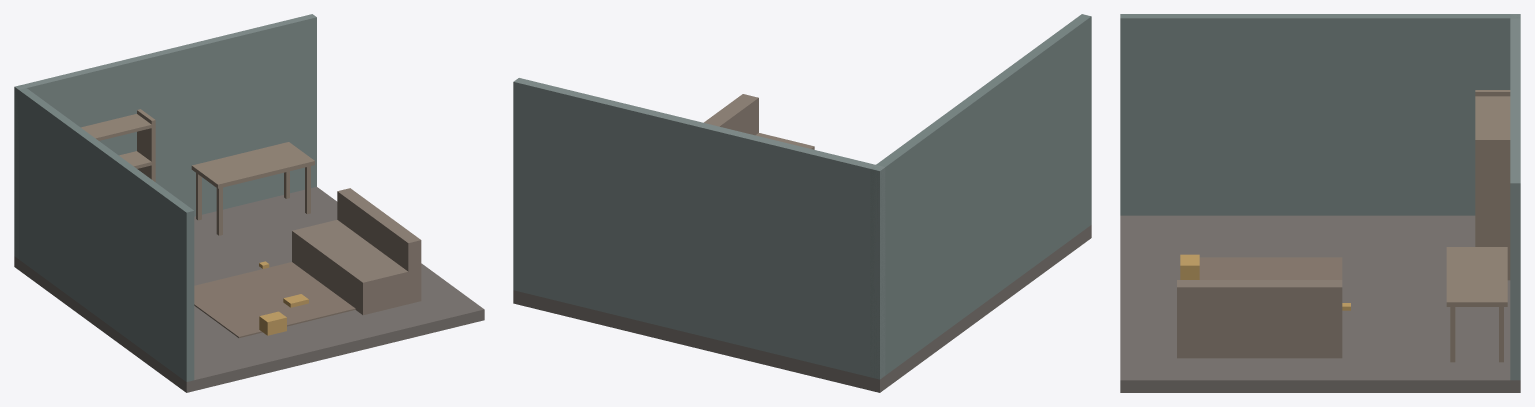
Rendered from placeholder-room.glb.
The picture shows the model from 3 angles, left to right: view 1: azimuth 30°, elevation 25°; view 2: azimuth 150°, elevation 25°; view 3: azimuth 270°, elevation 25°; orthographic projection. The views are drawn at different scales.
Visible parts, largest first — view 1: placeholder-room; view 2: placeholder-room; view 3: placeholder-room.
Part boxes in pixels (x1,y1,x2,y2): placeholder-room: [14, 14, 484, 392]; placeholder-room: [513, 14, 1091, 392]; placeholder-room: [1120, 14, 1520, 392].
Bounding box in the file's own units: 4.6 × 2.66 × 4.6.
